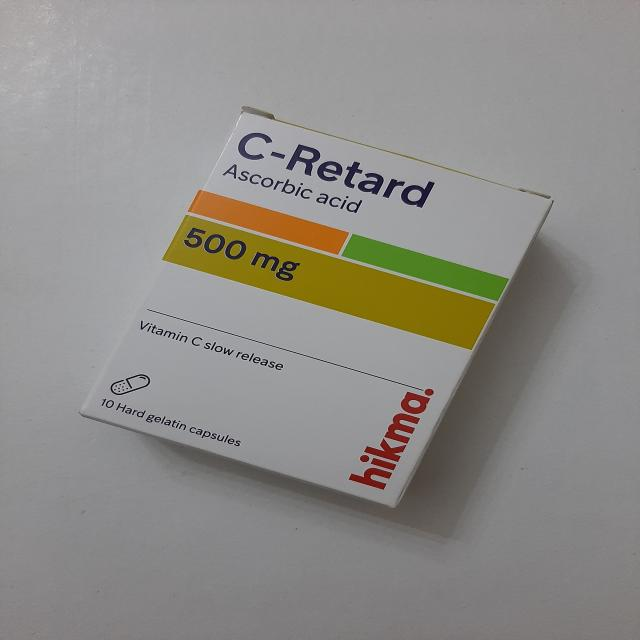C-Retard: (75, 101, 561, 520)
